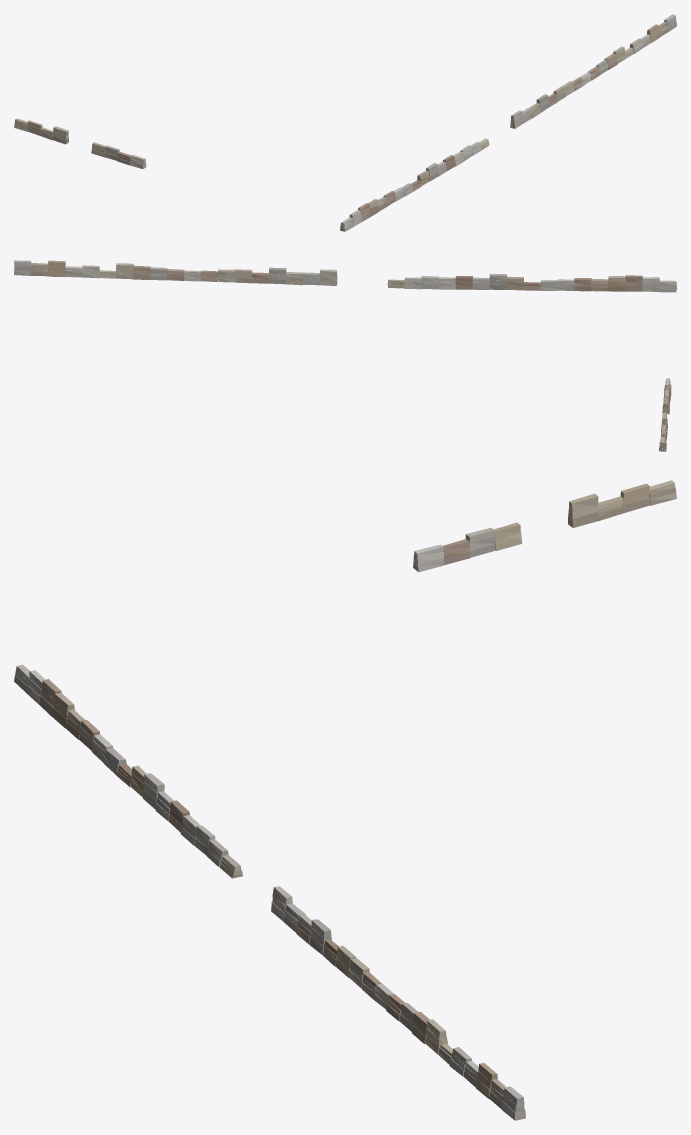
The model's file is farm_12_4_mid.glb.
The picture shows the model from 3 angles, top to bottom: view 1: azimuth 30°, elevation 25°; view 2: azimuth 150°, elevation 25°; view 3: azimuth 270°, elevation 25°; orthographic projection. The views are drawn at different scales.
Parts seen in each view (by area): view 1: geometry_0; view 2: geometry_0; view 3: geometry_0.
Boxes of the visible parts, bbox=[...] form: geometry_0: bbox=[14, 14, 676, 231]; geometry_0: bbox=[14, 260, 676, 451]; geometry_0: bbox=[14, 480, 676, 1120].
Bounding box in the file's own units: 75.15 × 3.79 × 35.93.
